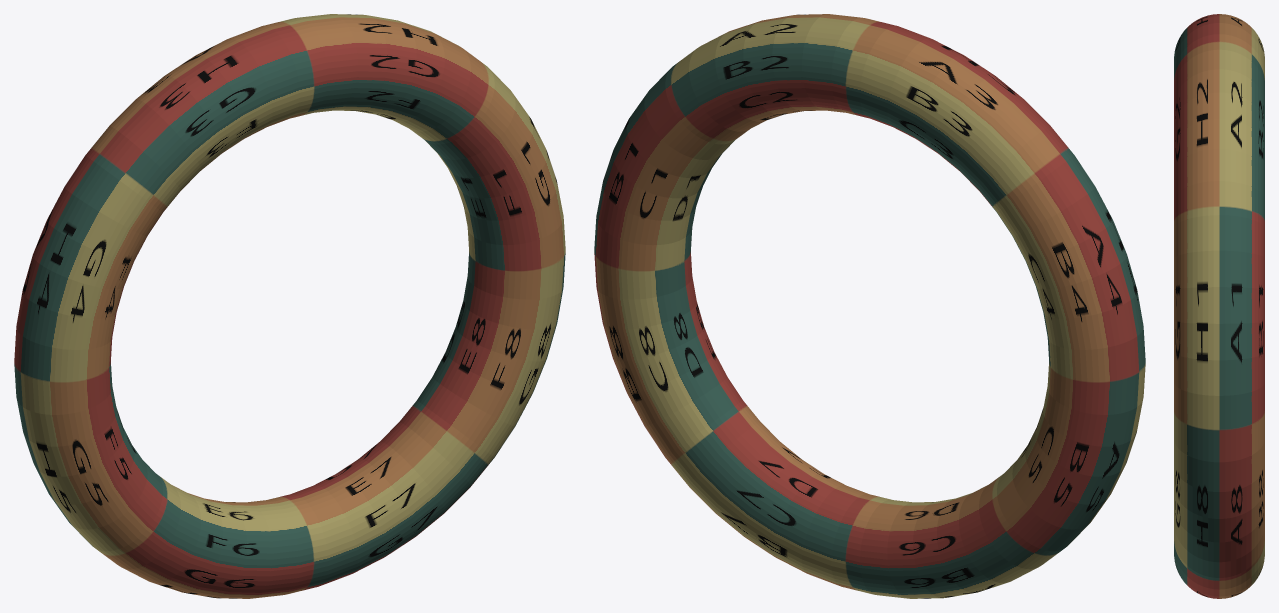
File: texture_torus_R10_r4.glb
3 views of the same model, side by side, from view 1: azimuth 30°, elevation 25°; view 2: azimuth 150°, elevation 25°; view 3: azimuth 270°, elevation 25° (orthographic). The views are drawn at different scales.
Parts seen in each view (by area): view 1: world; view 2: world; view 3: world.
Part boxes in pixels (x1=…): world: x1=14, y1=14, x2=565, y2=598; world: x1=594, y1=14, x2=1145, y2=598; world: x1=1174, y1=14, x2=1264, y2=598.
Bounding box in the file's own units: 19.73 × 19.69 × 3.06.
1 material, 1 textured.
